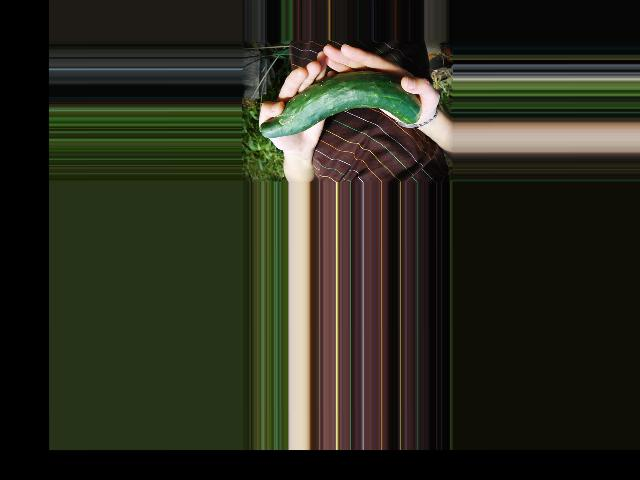cucumber: (260, 70, 422, 137)
